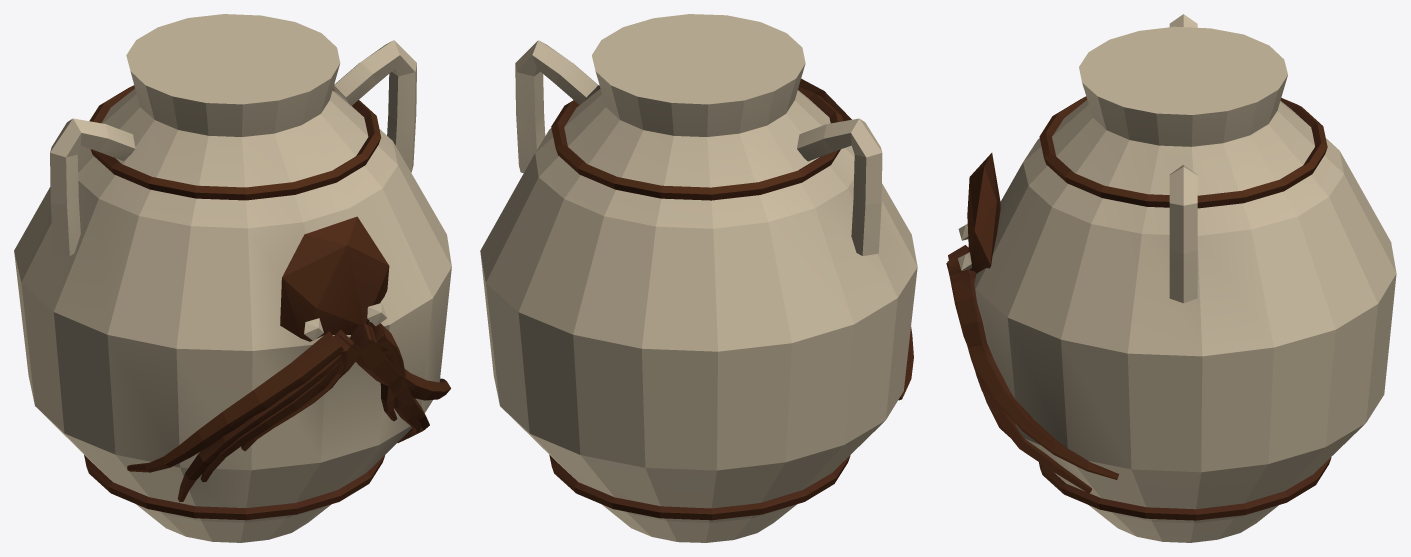
3 views of the same model, side by side, from view 1: azimuth 30°, elevation 25°; view 2: azimuth 150°, elevation 25°; view 3: azimuth 270°, elevation 25° (orthographic). The views are drawn at different scales.
Visible parts, largest first — view 1: base; view 2: base; view 3: base.
Part boxes in pixels (x1,y1,x2,y2): base: (14, 14, 451, 542); base: (480, 14, 917, 542); base: (946, 14, 1396, 542).
Size of the model in its own units: 0.319 by 0.36 by 0.3353.
